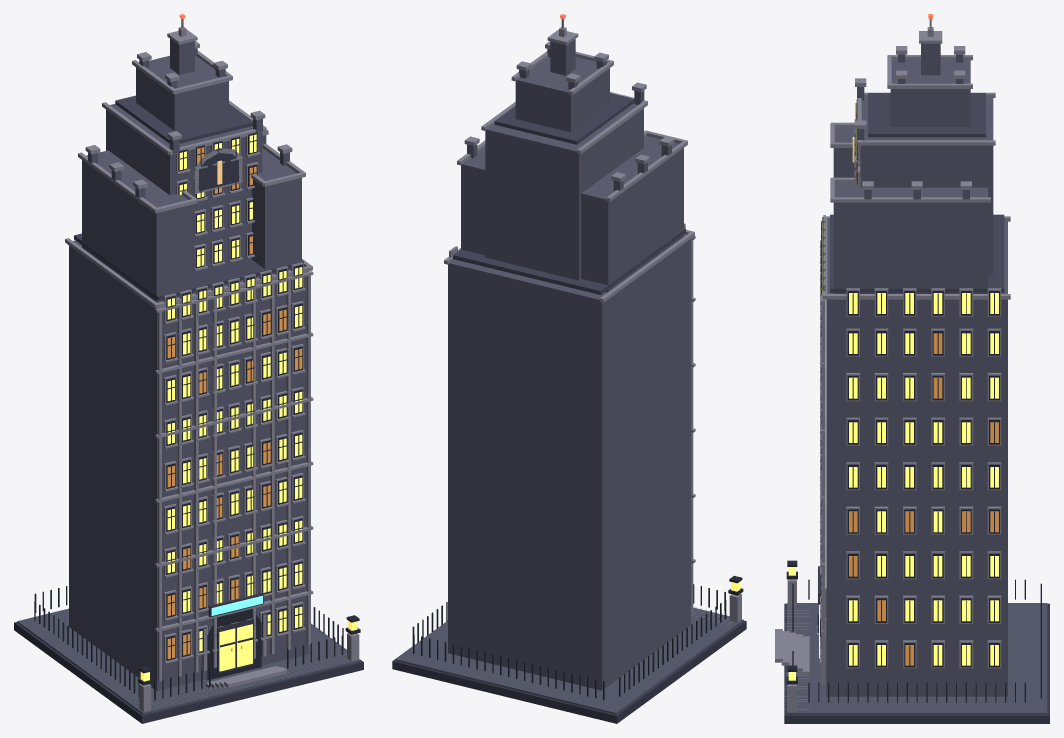
File: account_building_06.glb
The picture shows the model from 3 angles, left to right: view 1: azimuth 30°, elevation 25°; view 2: azimuth 150°, elevation 25°; view 3: azimuth 270°, elevation 25°; orthographic projection. The views are drawn at different scales.
Parts seen in each view (by area): view 1: SM_Account_Building_06; view 2: SM_Account_Building_06; view 3: SM_Account_Building_06.
Boxes of the visible parts, left/top/right/bottom form: SM_Account_Building_06: left=14, top=14, right=363, bottom=723; SM_Account_Building_06: left=392, top=14, right=746, bottom=723; SM_Account_Building_06: left=775, top=14, right=1049, bottom=723.
Bounding box in the file's own units: 10.8 × 29.32 × 11.18.
